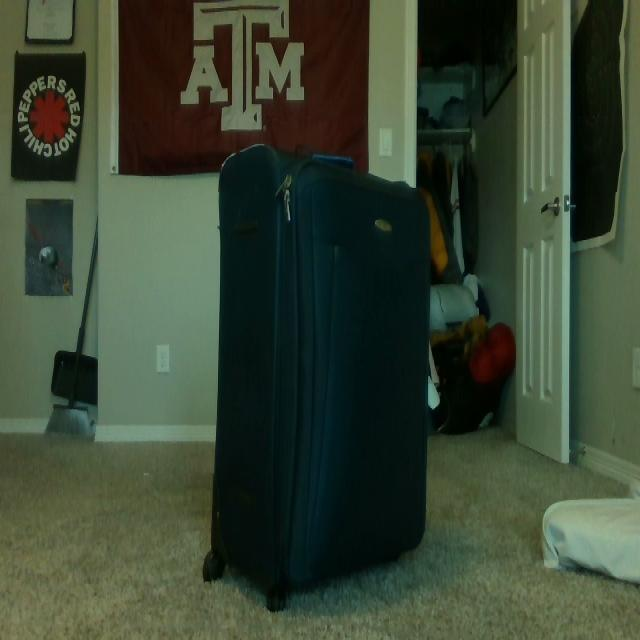suitcase: (202, 141, 432, 610)
